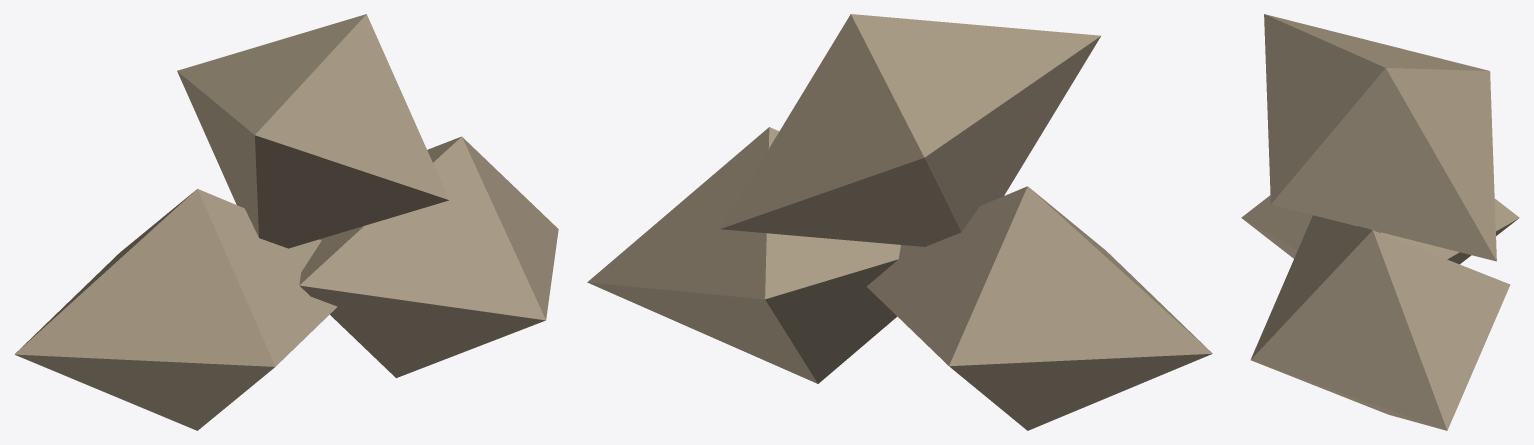
The model's file is Load_Human.fbx.
3 renders of one model, left to right at view 1: azimuth 30°, elevation 25°; view 2: azimuth 150°, elevation 25°; view 3: azimuth 270°, elevation 25°, orthographic. The views are drawn at different scales.
Visible parts, largest first — view 1: Load_Human; view 2: Load_Human; view 3: Load_Human.
Part boxes in pixels (bbox=[...]): Load_Human: bbox=[14, 14, 558, 430]; Load_Human: bbox=[587, 14, 1212, 430]; Load_Human: bbox=[1241, 14, 1519, 430].
Bounding box in the file's own units: 0.6033 × 0.3694 × 0.28.
